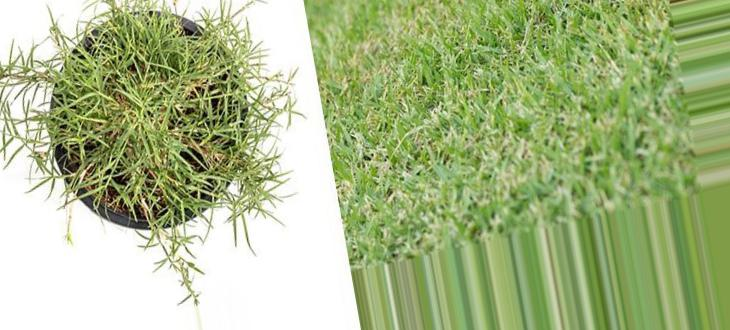patch: (572, 22, 621, 64), (404, 113, 462, 145), (348, 37, 390, 71), (148, 142, 182, 161), (193, 135, 221, 154), (166, 89, 182, 120)
